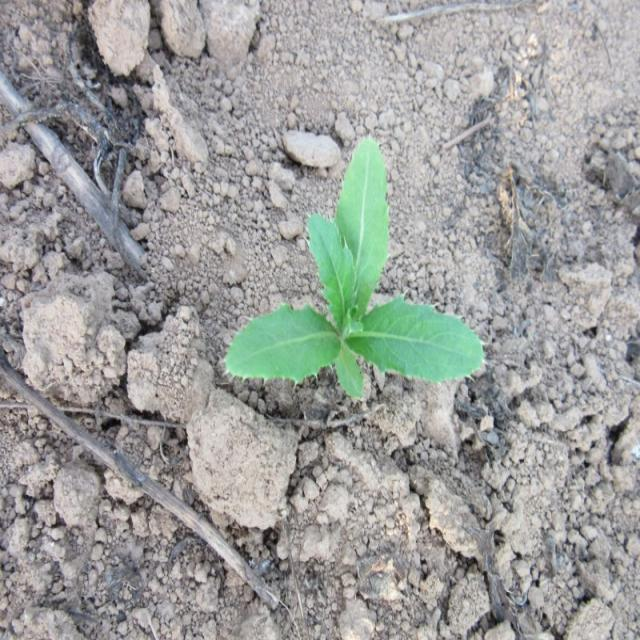cs: (220, 136, 486, 399)
